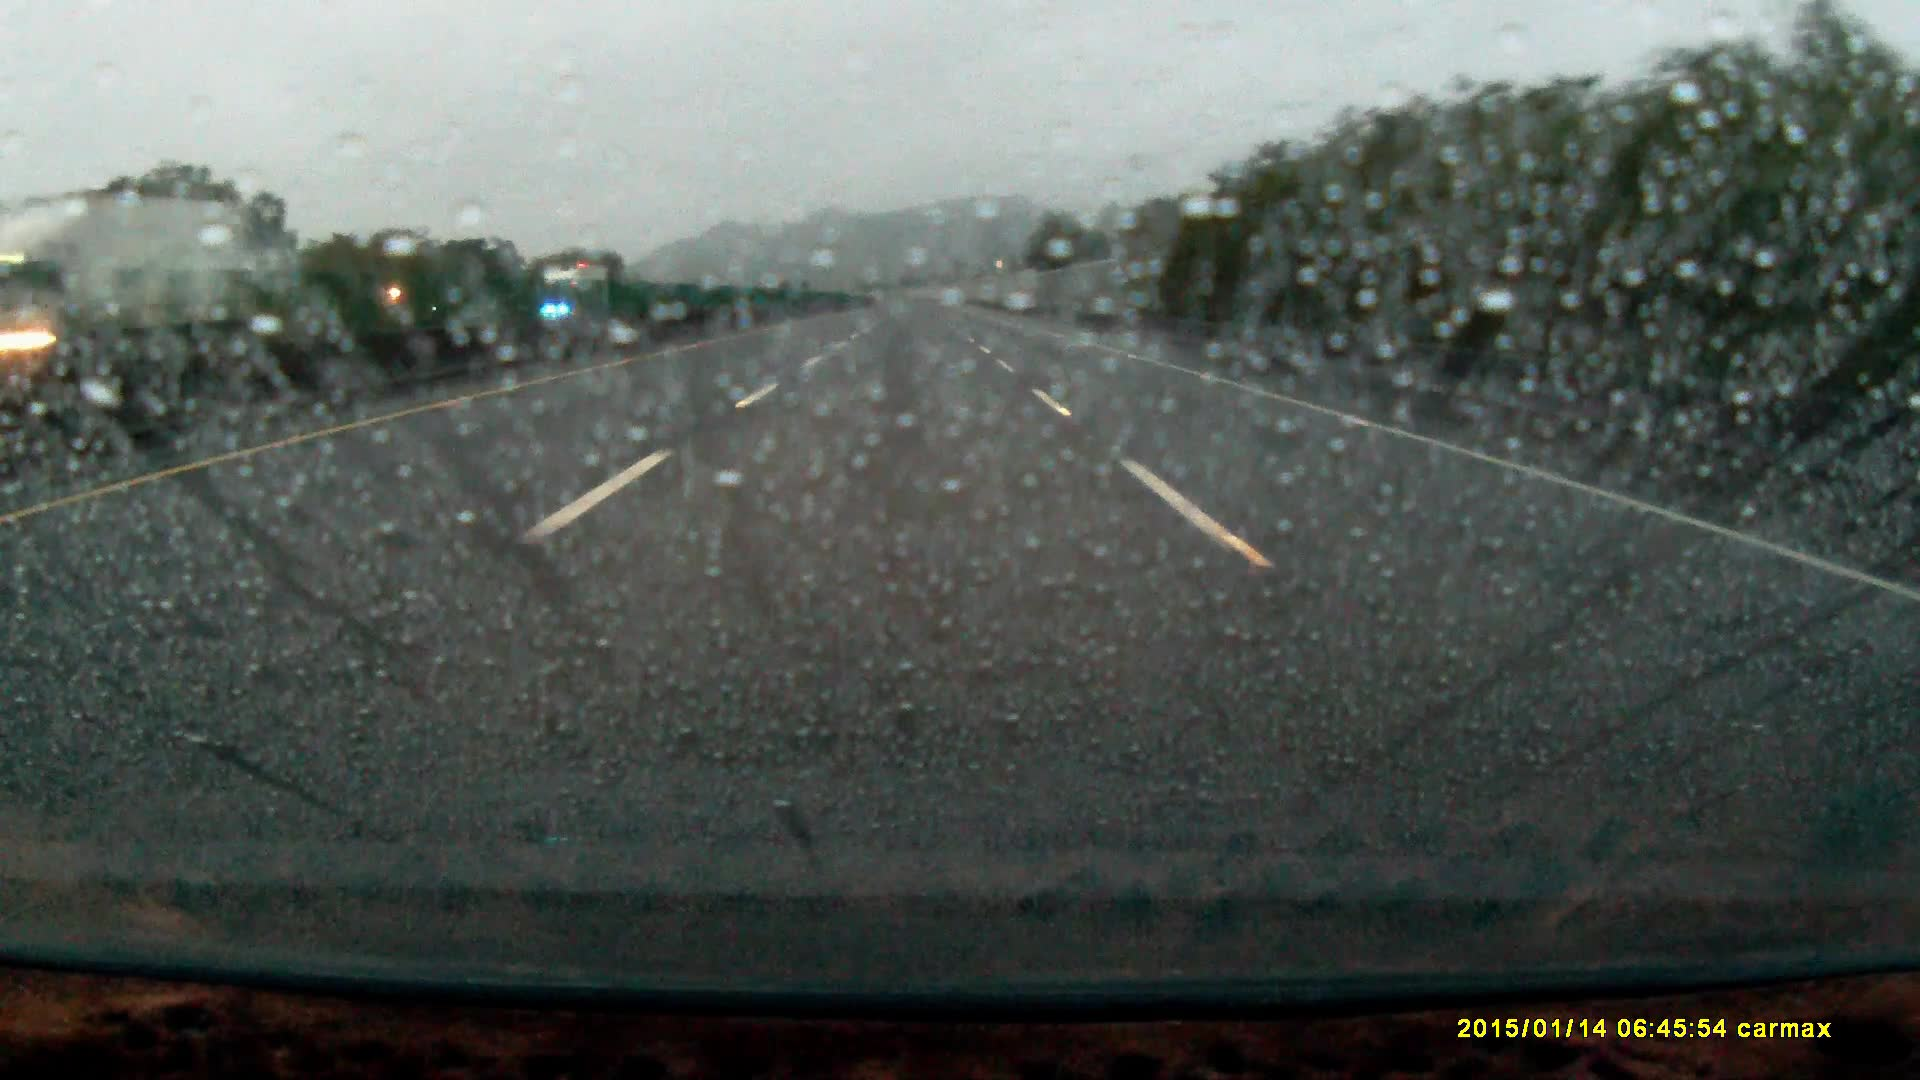vehicle: (1, 194, 251, 382), (538, 264, 613, 328)
